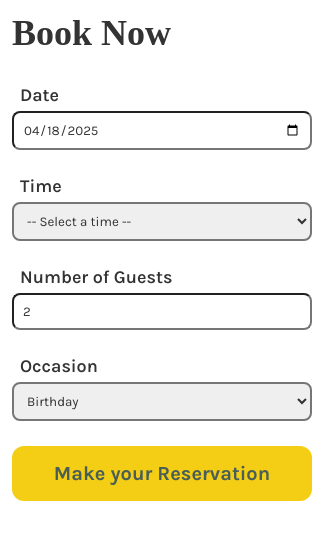
Test case: Error message appears if no time is chosen
The image size is (332, 547).
// Fill in the form fields
Select "-- Select a time --" in the dropdown labelled "Time" at (162, 222), box x1=12 y1=202 x2=312 y2=241
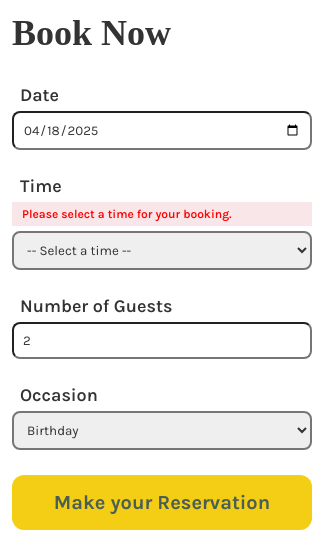
Now the text "Please select a time for your booking." is shown, box x1=12 y1=202 x2=312 y2=226
